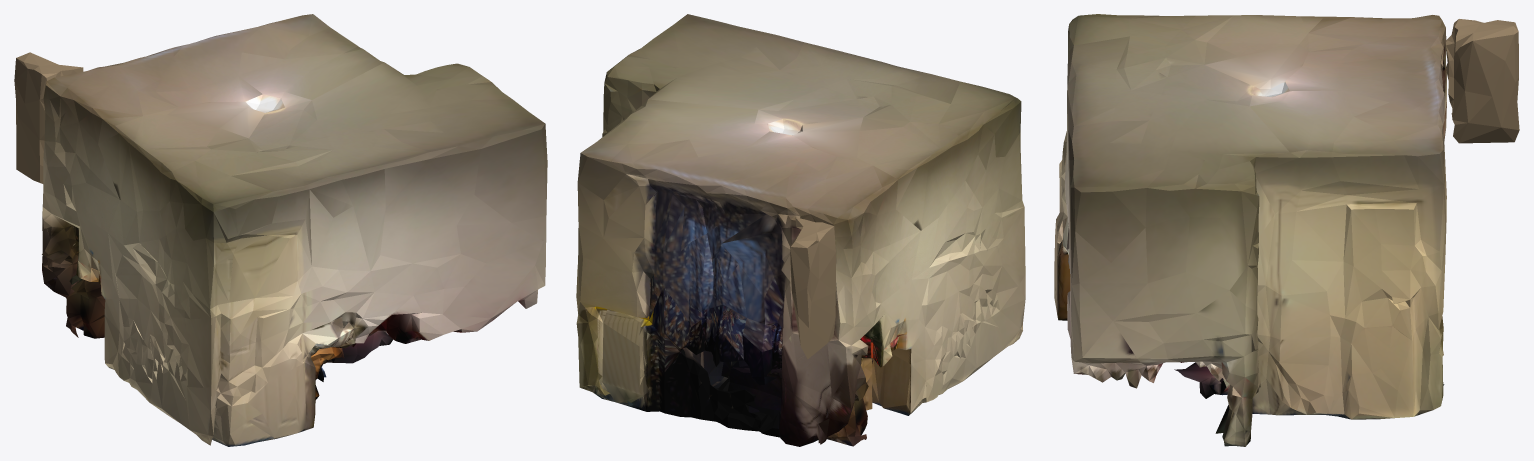
The model's file is Room low poly.obj.
The picture shows the model from 3 angles, left to right: view 1: azimuth 30°, elevation 25°; view 2: azimuth 150°, elevation 25°; view 3: azimuth 270°, elevation 25°; orthographic projection. The views are drawn at different scales.
Visible parts, largest first — view 1: 05_05_2024; view 2: 05_05_2024; view 3: 05_05_2024.
Boxes of the visible parts, bbox=[...] form: 05_05_2024: bbox=[14, 14, 547, 446]; 05_05_2024: bbox=[576, 14, 1025, 446]; 05_05_2024: bbox=[1054, 14, 1519, 446].
Size of the model in its own units: 110 by 76.85 by 119.
1 material, 1 textured.
